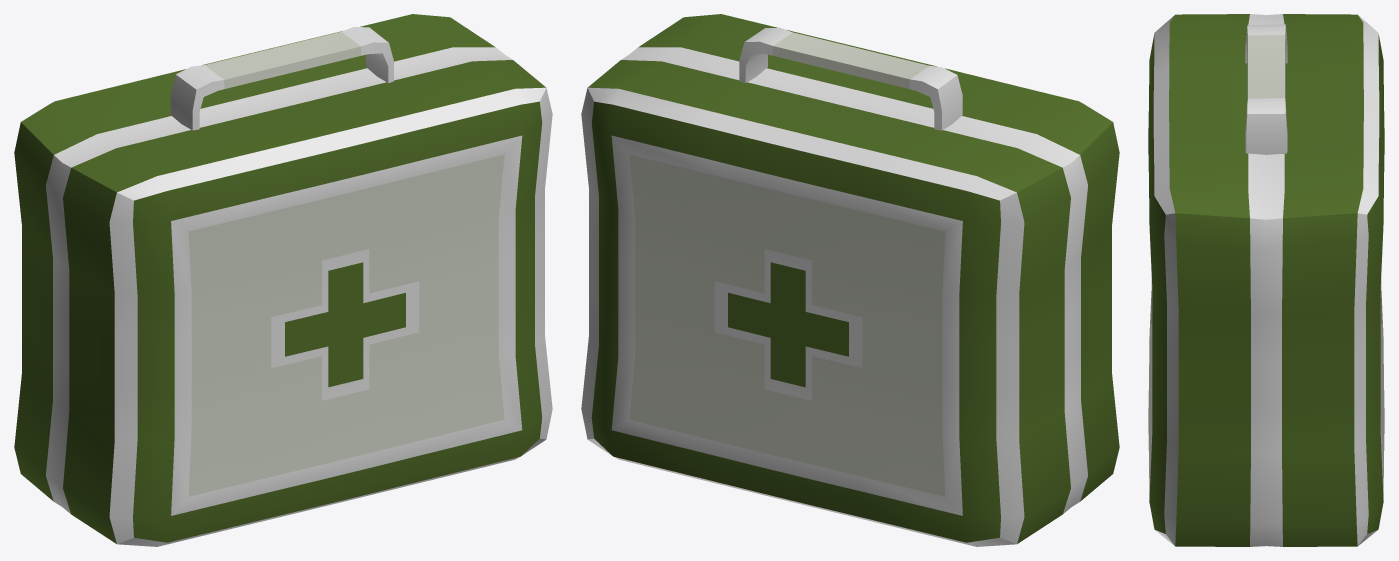
Rendered from SM_Health.fbx.
3 views of the same model, side by side, from view 1: azimuth 30°, elevation 25°; view 2: azimuth 150°, elevation 25°; view 3: azimuth 270°, elevation 25° (orthographic). The views are drawn at different scales.
Parts seen in each view (by area): view 1: SM_Health; view 2: SM_Health; view 3: SM_Health.
Boxes of the visible parts, x1=… form: SM_Health: x1=14, y1=14, x2=552, y2=546; SM_Health: x1=581, y1=14, x2=1119, y2=546; SM_Health: x1=1148, y1=14, x2=1384, y2=546.
Bounding box in the file's own units: 0.861 × 0.7376 × 0.4039.
